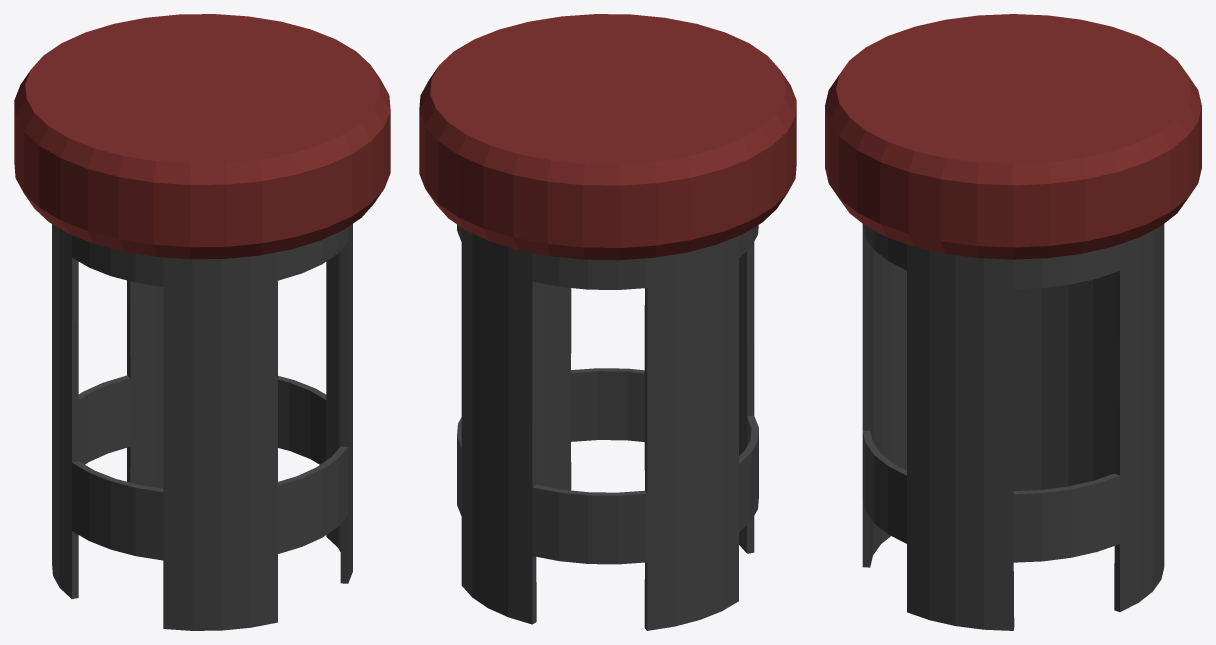
File: Barhocker.glb
The picture shows the model from 3 angles, left to right: view 1: azimuth 30°, elevation 25°; view 2: azimuth 150°, elevation 25°; view 3: azimuth 270°, elevation 25°; orthographic projection.
Visible parts, largest first — view 1: Barhocker; view 2: Barhocker; view 3: Barhocker.
Boxes of the visible parts, x1,y1,x2,y2 form: Barhocker: (14,14,390,630); Barhocker: (419,14,796,630); Barhocker: (825,14,1201,630).
Bounding box in the file's own units: 0.5 × 0.7 × 0.5.
